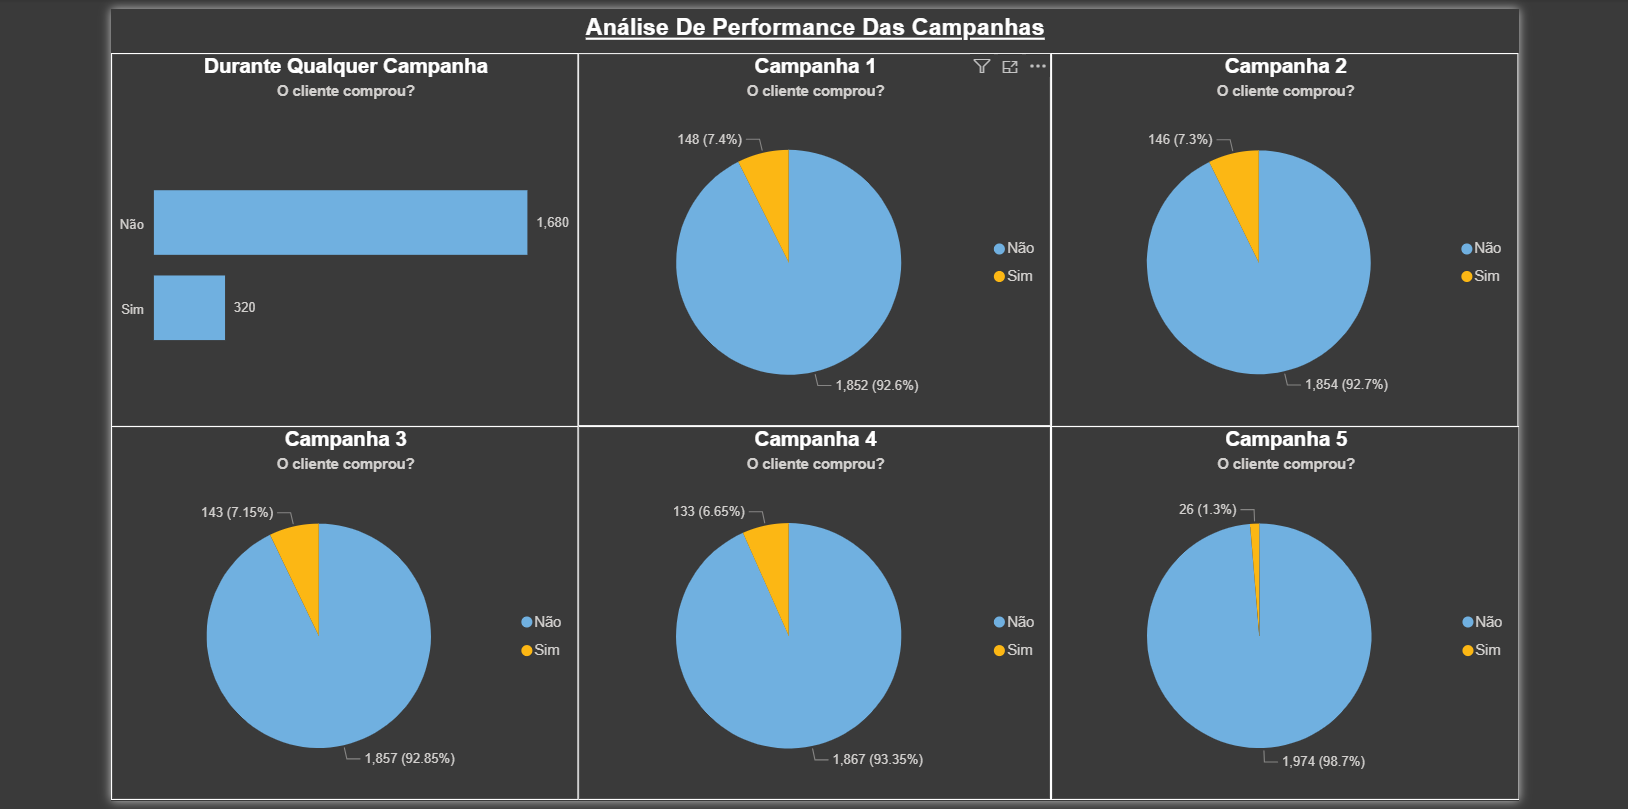

Layout of this report page (visuals, bound fields, positions):
{"tool":"powerbi","page":{"name":"Página 3","canvas":[1280,720],"ordinal":2},"visuals":[{"type":"clusteredBarChart","title":"Durante Qualquer Campanha","fields":{"Category":["dados_marketing.Comprou"],"Y":["CountNonNull(dados_marketing.ID)"]},"box":[0,39.9,425,340],"z":0},{"type":"actionButton","box":[0,0,100,40],"z":1000},{"type":"textbox","box":[0,0,1280.4,40],"z":2000},{"type":"pieChart","title":"Campanha 4","fields":{"Category":["dados_marketing.Compra na Campanha 4"],"Y":["CountNonNull(dados_marketing.ID)"]},"box":[424.7,379.5,430,340.5],"z":3000},{"type":"pieChart","title":"Campanha 1","fields":{"Category":["dados_marketing.Compra na Campanha 1"],"Y":["CountNonNull(dados_marketing.ID)"]},"box":[424.7,39.9,430,339.6],"z":4000},{"type":"pieChart","title":"Campanha 2","fields":{"Category":["dados_marketing.Compra na Campanha 2"],"Y":["CountNonNull(dados_marketing.ID)"]},"box":[854.8,39.9,424.7,339.6],"z":5000},{"type":"pieChart","title":"Campanha 3","fields":{"Category":["dados_marketing.Compra na Campanha 3"],"Y":["CountNonNull(dados_marketing.ID)"]},"box":[0,379.5,424.7,340.5],"z":6000},{"type":"pieChart","title":"Campanha 5","fields":{"Category":["dados_marketing.Compra na Campanha 5"],"Y":["CountNonNull(dados_marketing.ID)"]},"box":[854.8,379.5,425.6,340.5],"z":7000}]}

Visuals, with their boxes in screenshot pixels (x1, y1, x2, y2):
"Durante Qualquer Campanha" clusteredBarChart: (102,48,573,426)
actionButton: (102,4,213,49)
textbox: (102,4,1522,49)
"Campanha 4" pieChart: (573,425,1050,803)
"Campanha 1" pieChart: (573,48,1050,425)
"Campanha 2" pieChart: (1050,48,1521,425)
"Campanha 3" pieChart: (102,425,573,803)
"Campanha 5" pieChart: (1050,425,1522,803)
